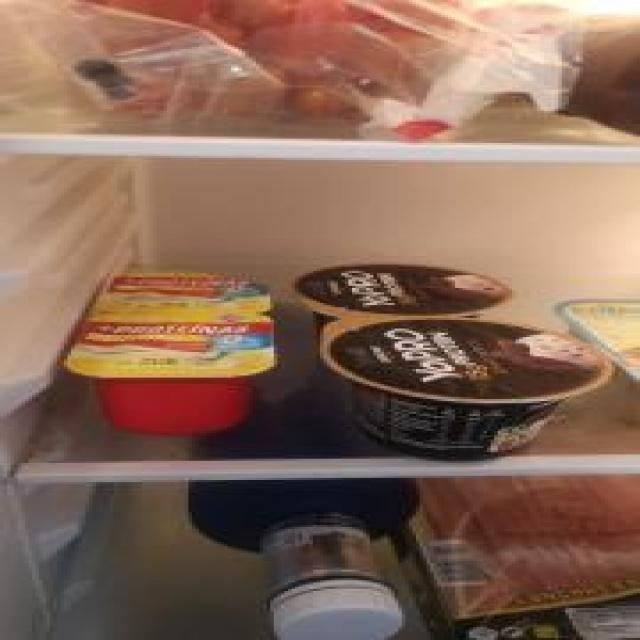cheese: (318, 314, 614, 465)
yogurt: (55, 312, 279, 438)
